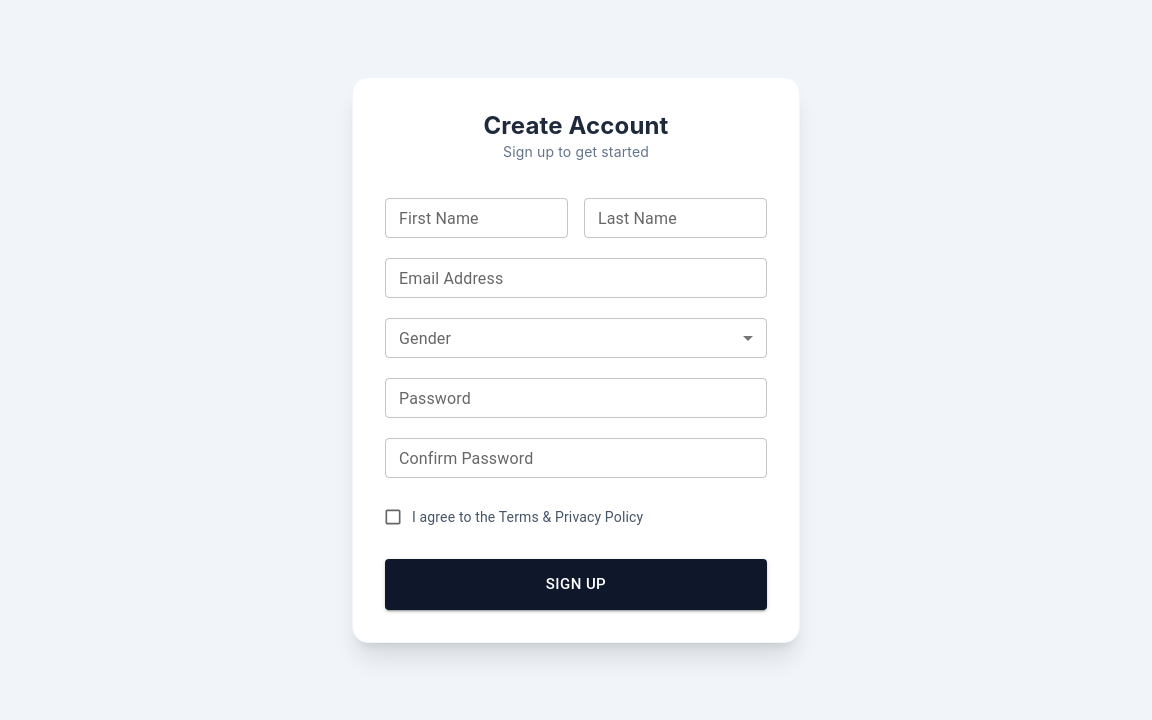
Test: SignUpForm › shows error when passwords do not match
In the password field labelled "Password": (576, 398) [385, 378, 767, 418], type "password123"
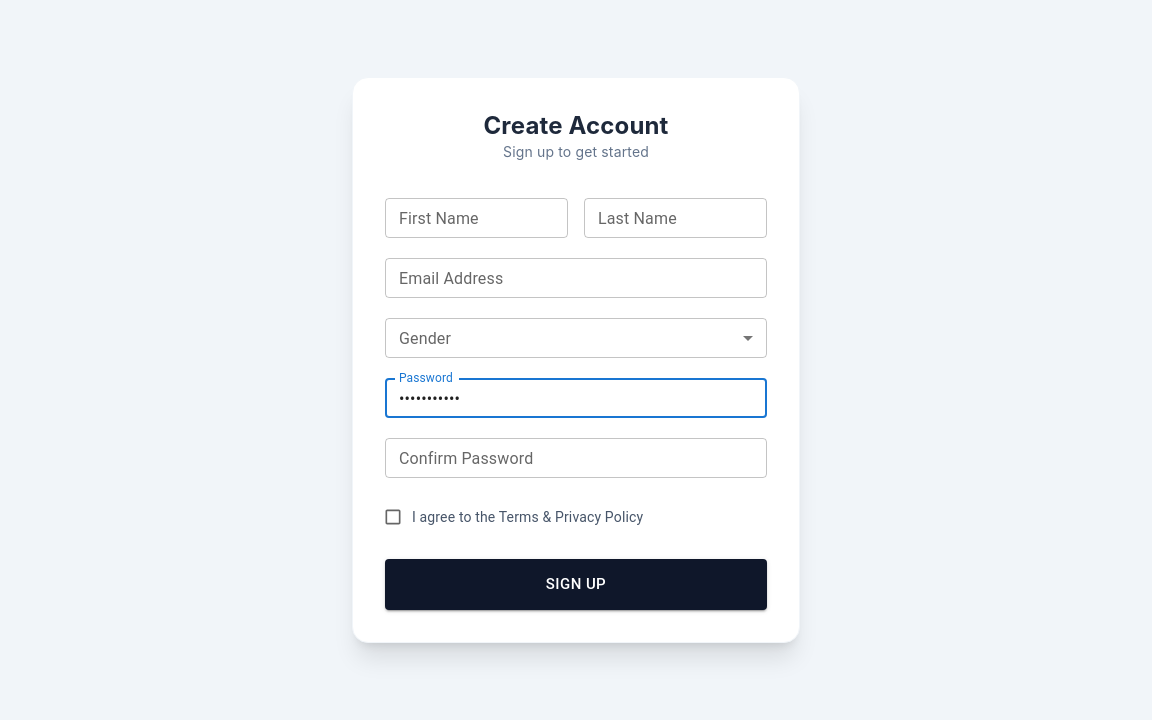
In the password field labelled "Confirm Password": (576, 458) [385, 438, 767, 478], type "password999"
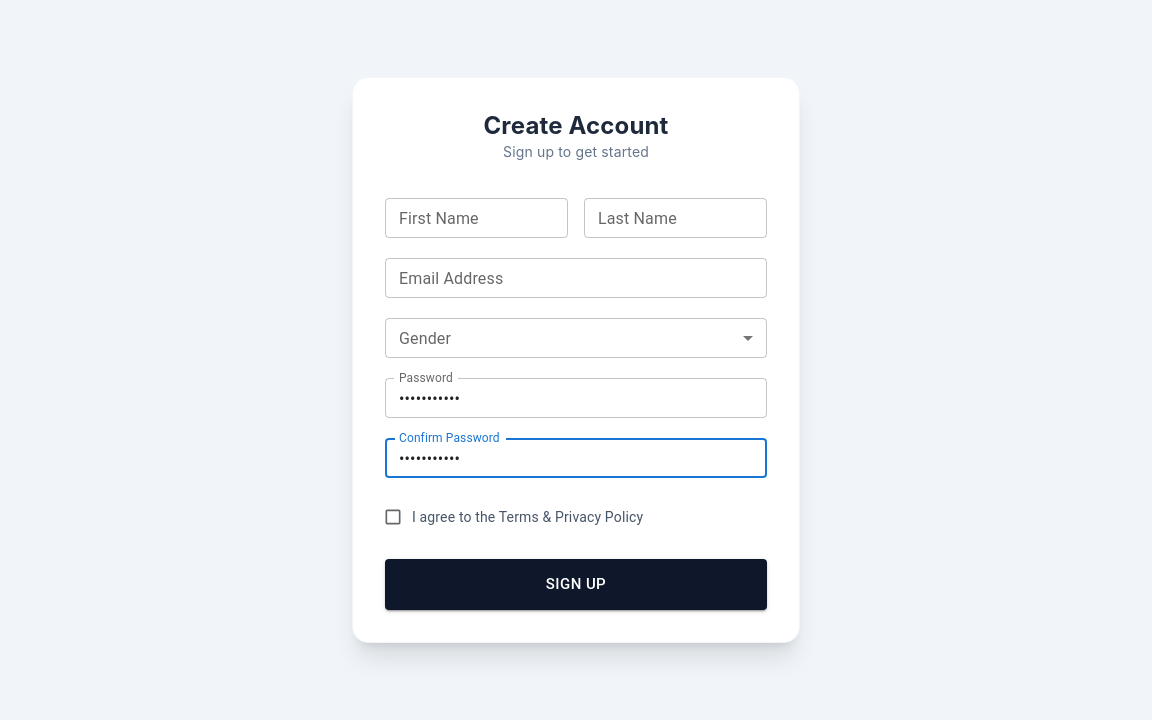
Click the element that starts with "Create Account": (576, 360) [0, 0, 1151, 719]
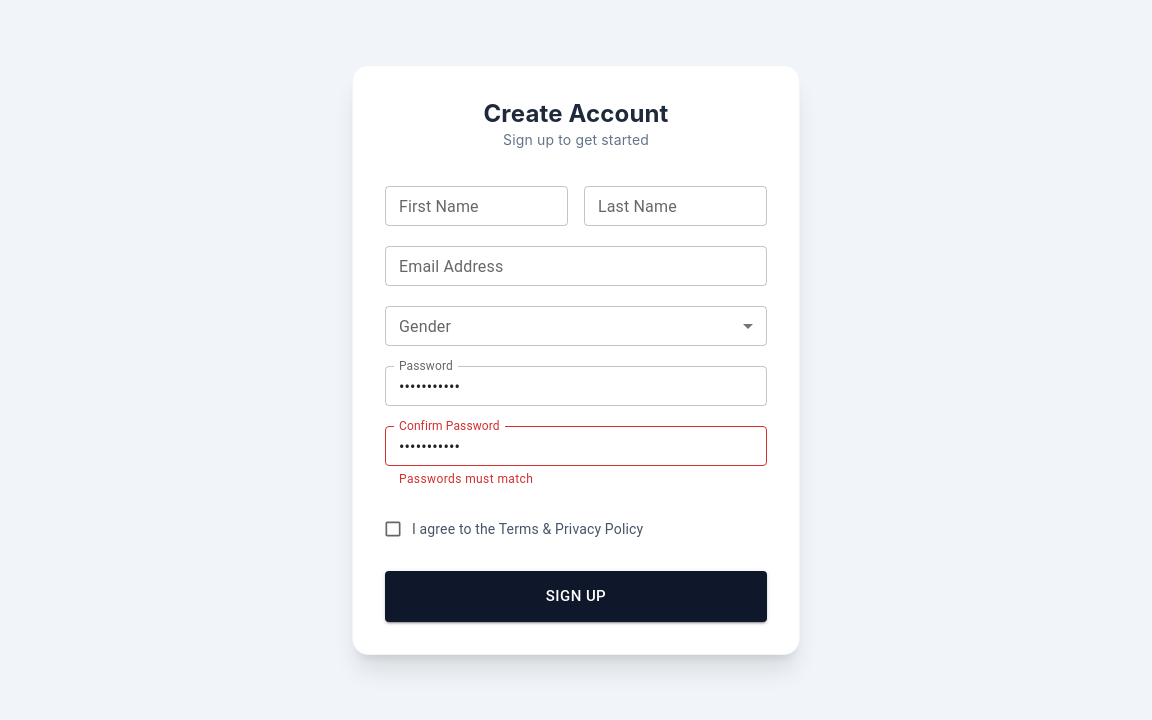
Expected: the text "Passwords must match" is shown, [399, 472, 533, 486]
